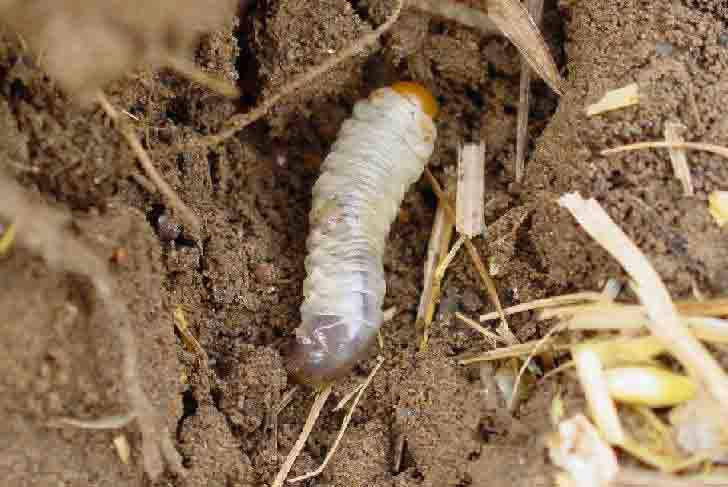grub: (296, 77, 451, 381)
